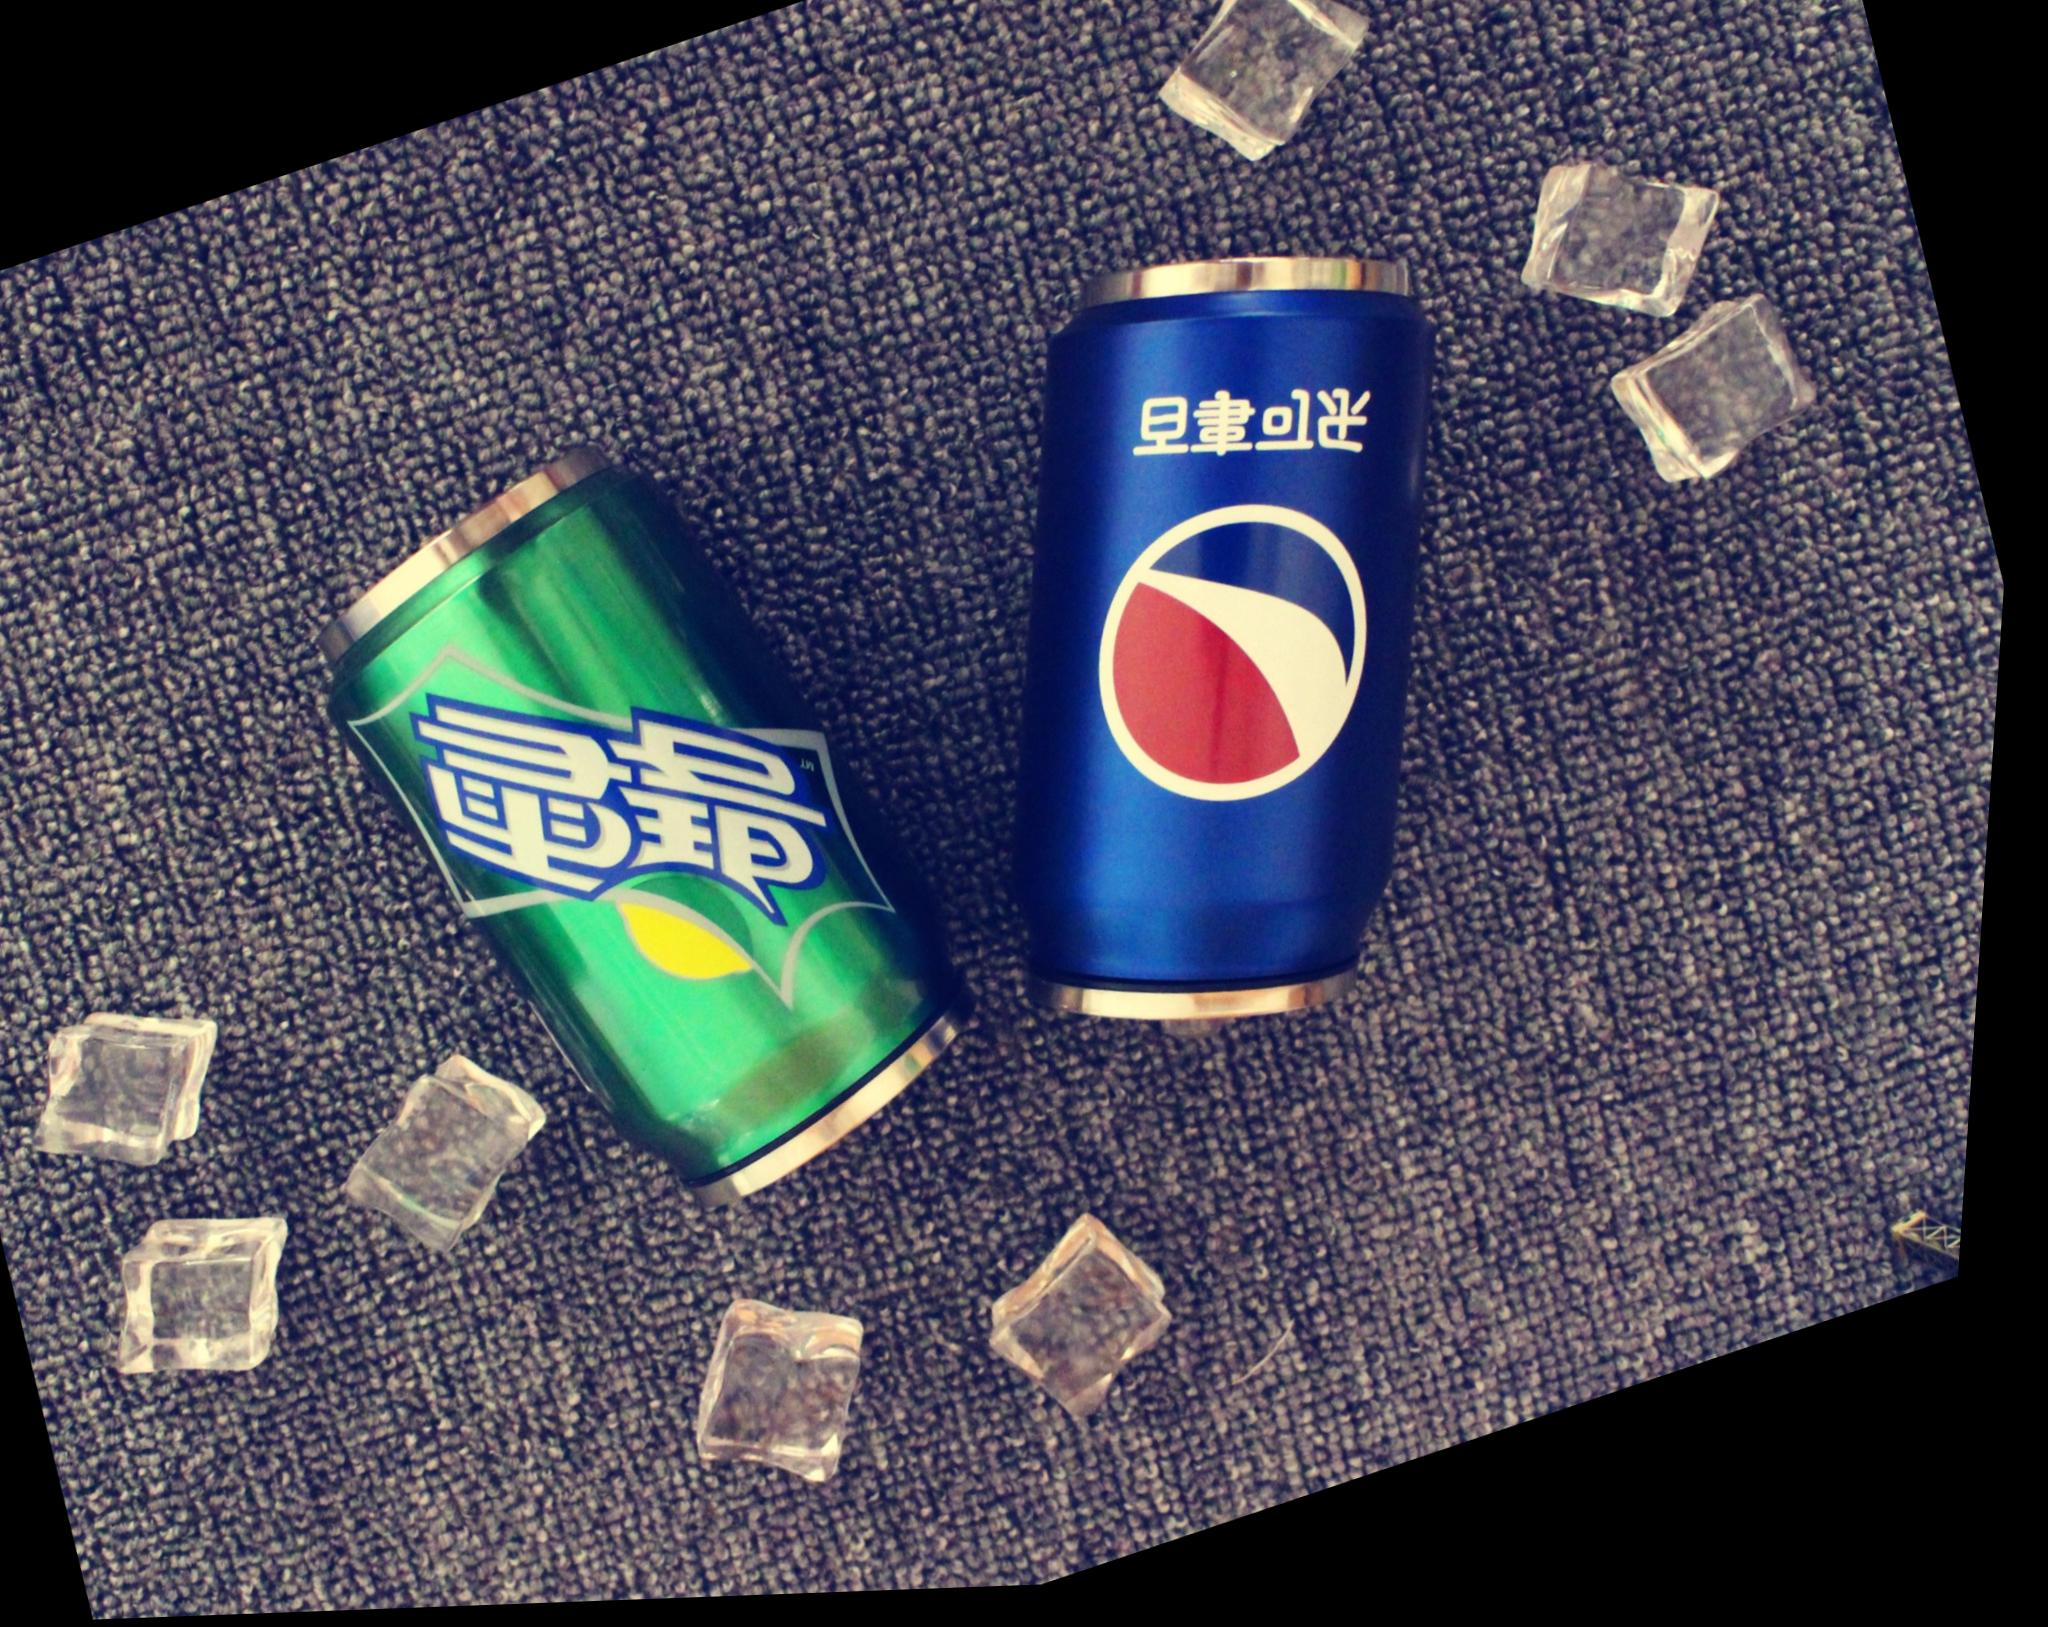metal: (324, 454, 966, 1202), (1016, 258, 1430, 1027)
